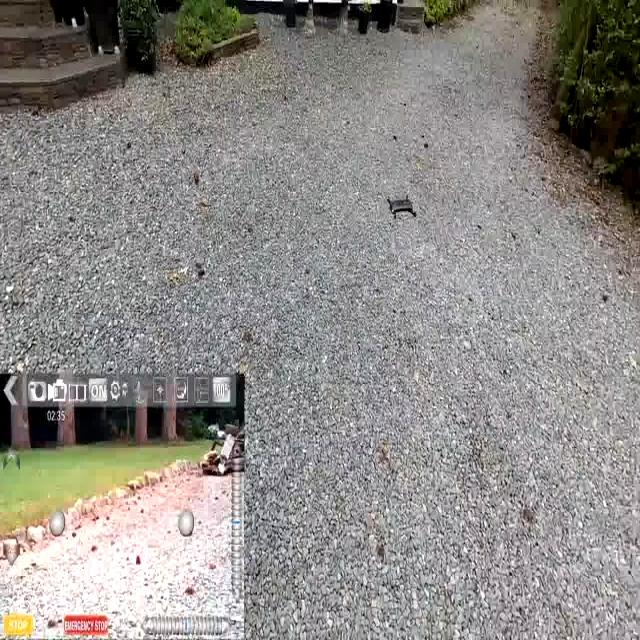drone: (383, 190, 422, 225)
